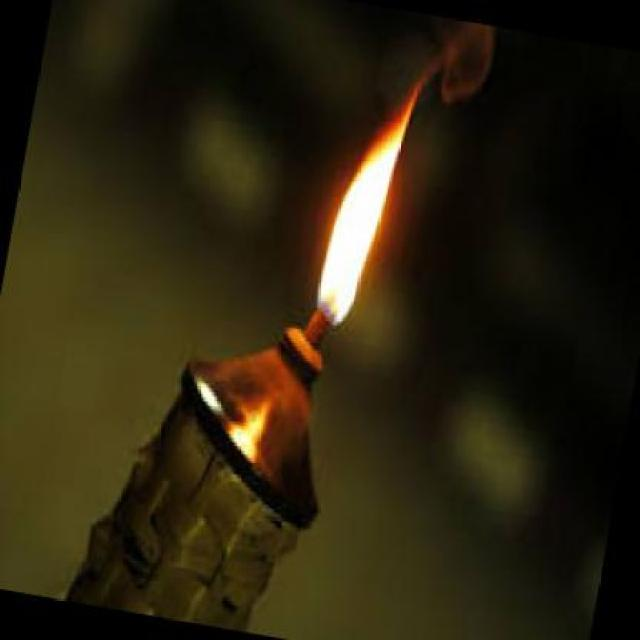Fire: (301, 53, 439, 331)
